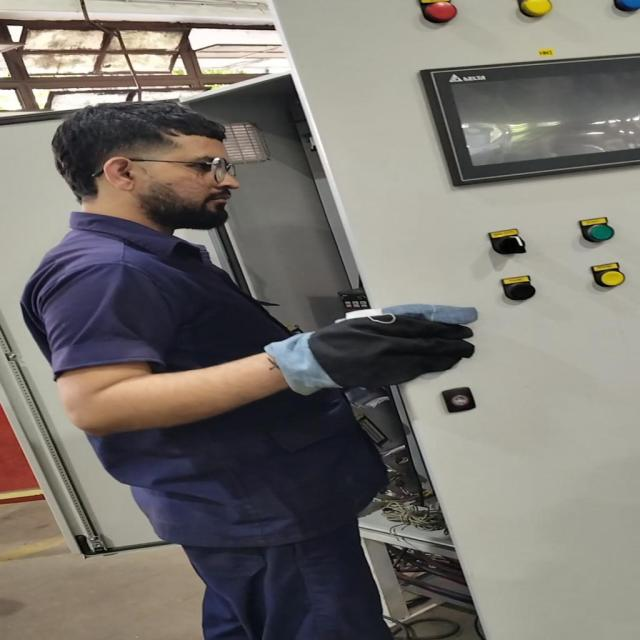Gloves-Detection: (237, 304, 518, 391)
